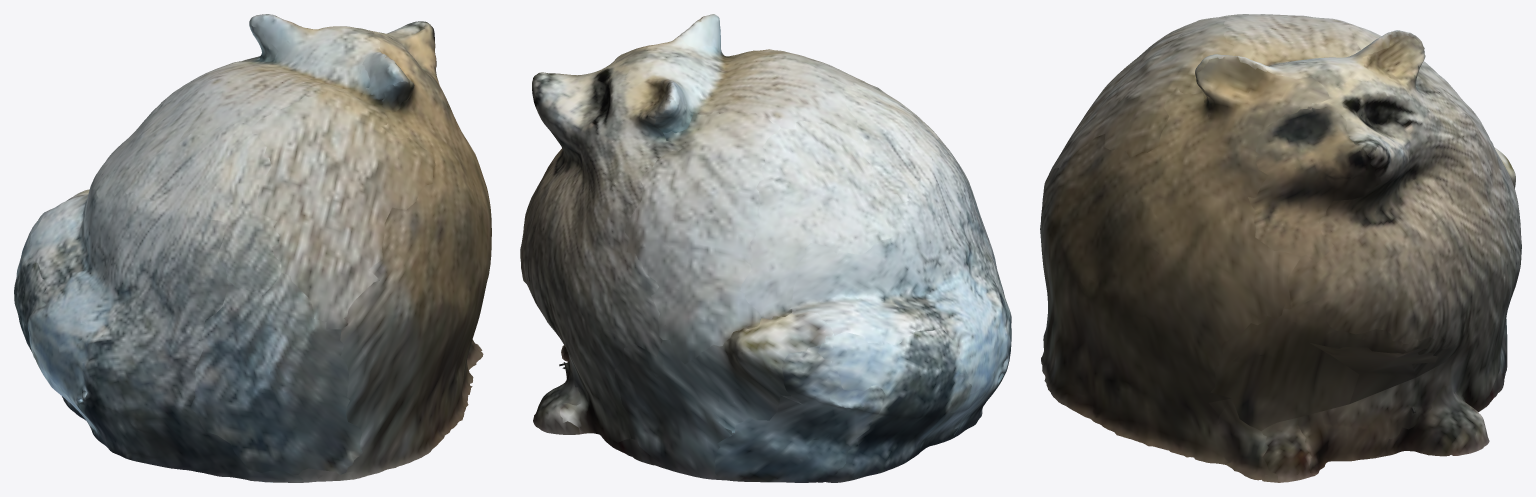
Rendered from raccoon.glb.
3 views of the same model, side by side, from view 1: azimuth 30°, elevation 25°; view 2: azimuth 150°, elevation 25°; view 3: azimuth 270°, elevation 25° (orthographic). The views are drawn at different scales.
Visible parts, largest first — view 1: mesh.005; view 2: mesh.005; view 3: mesh.005.
Boxes of the visible parts, x1,y1,x2,y2 form: mesh.005: [14, 14, 491, 482]; mesh.005: [520, 14, 1011, 482]; mesh.005: [1040, 14, 1521, 482].
Size of the model in its own units: 0.2126 by 0.1578 by 0.1874.
Materials: 1 (1 with a texture image).
